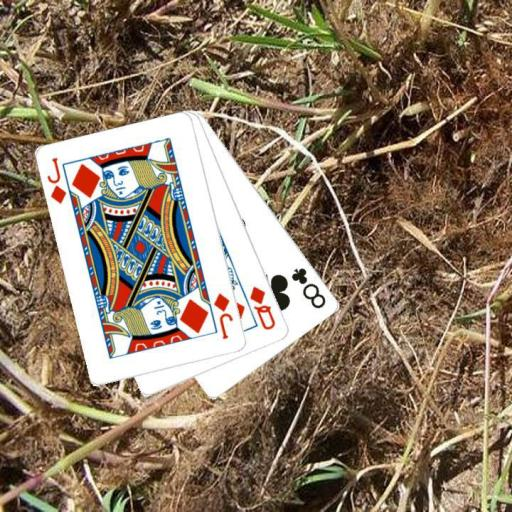8C: (288, 264, 328, 311)
JD: (44, 155, 68, 207), (211, 290, 235, 341)
QD: (247, 283, 277, 332)
